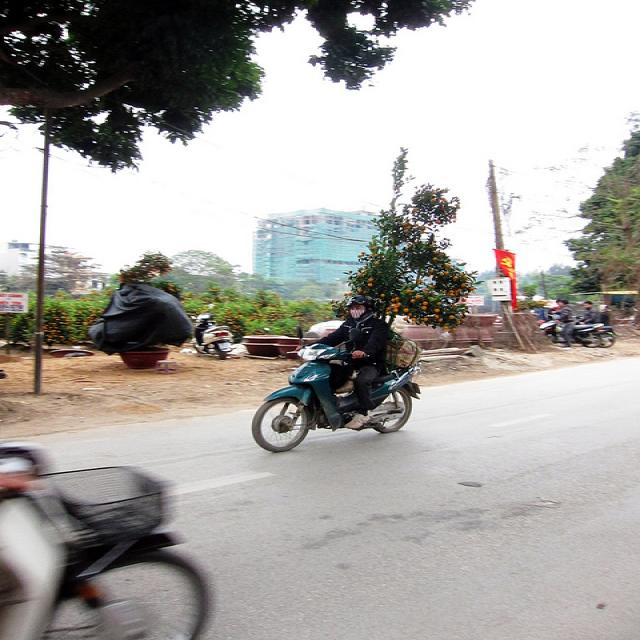motor: (0, 439, 215, 640), (238, 319, 428, 452), (191, 312, 238, 361), (538, 316, 604, 347), (599, 326, 617, 348)
